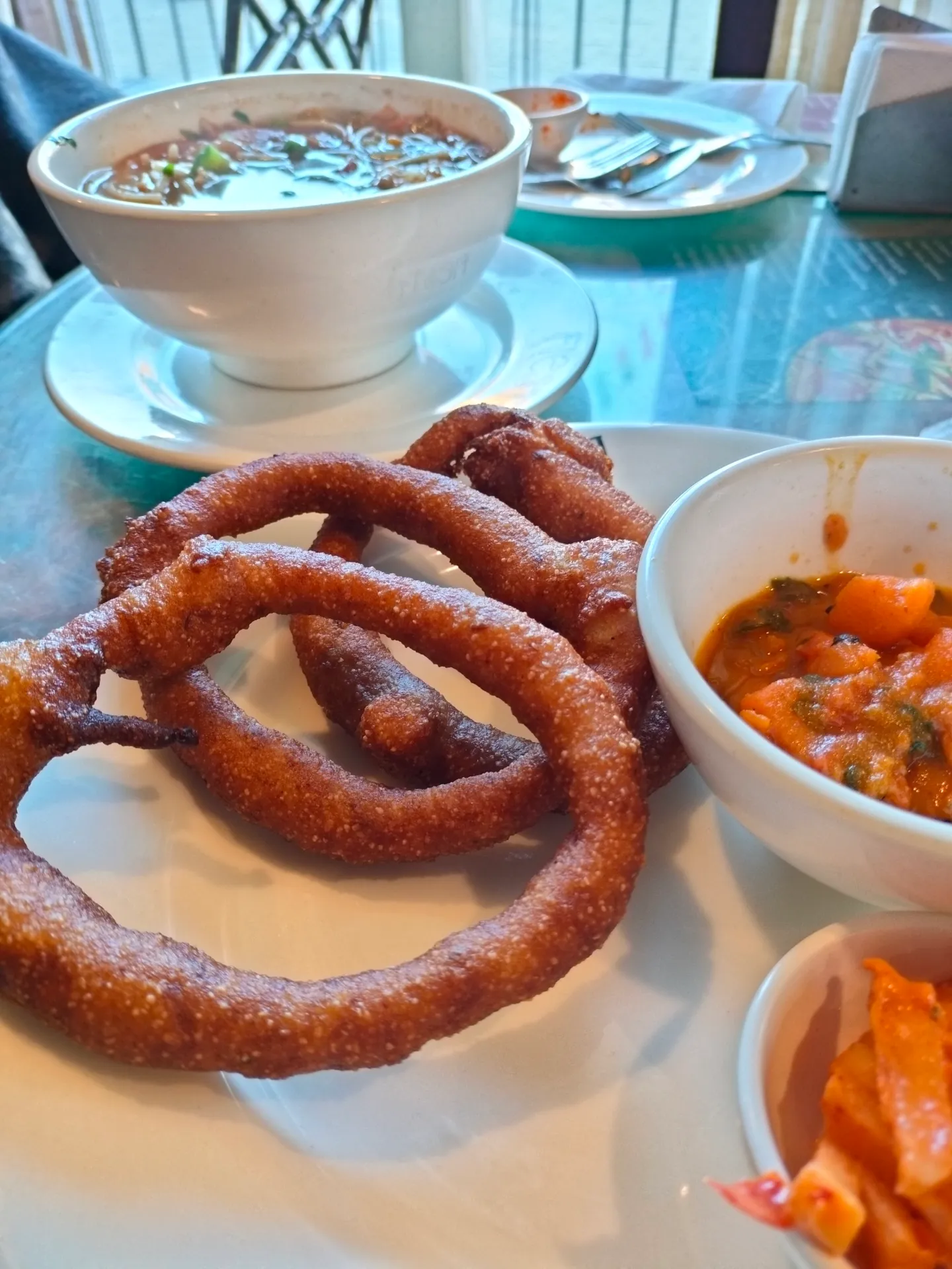sel_roti: (20, 552, 631, 1058), (129, 450, 625, 827)
